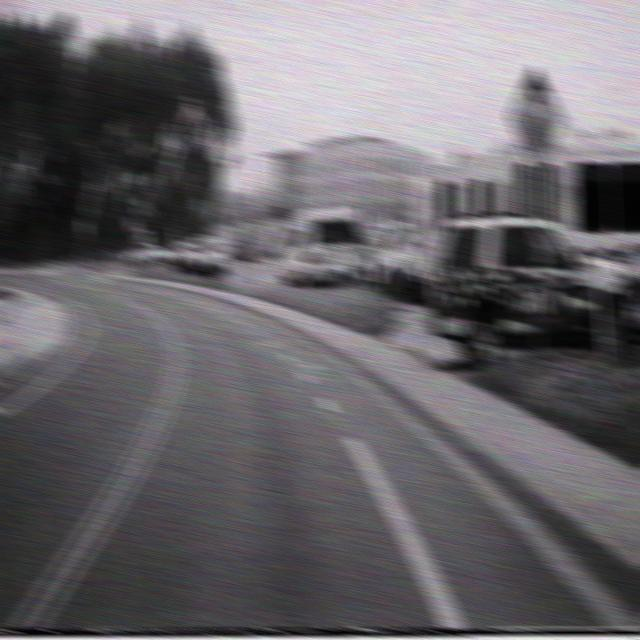pedestrianCrossing: (349, 194, 379, 243)
